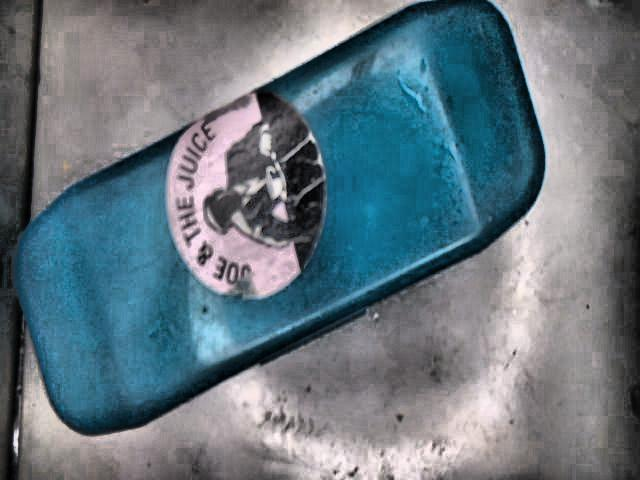Plastic: (13, 1, 547, 432)
